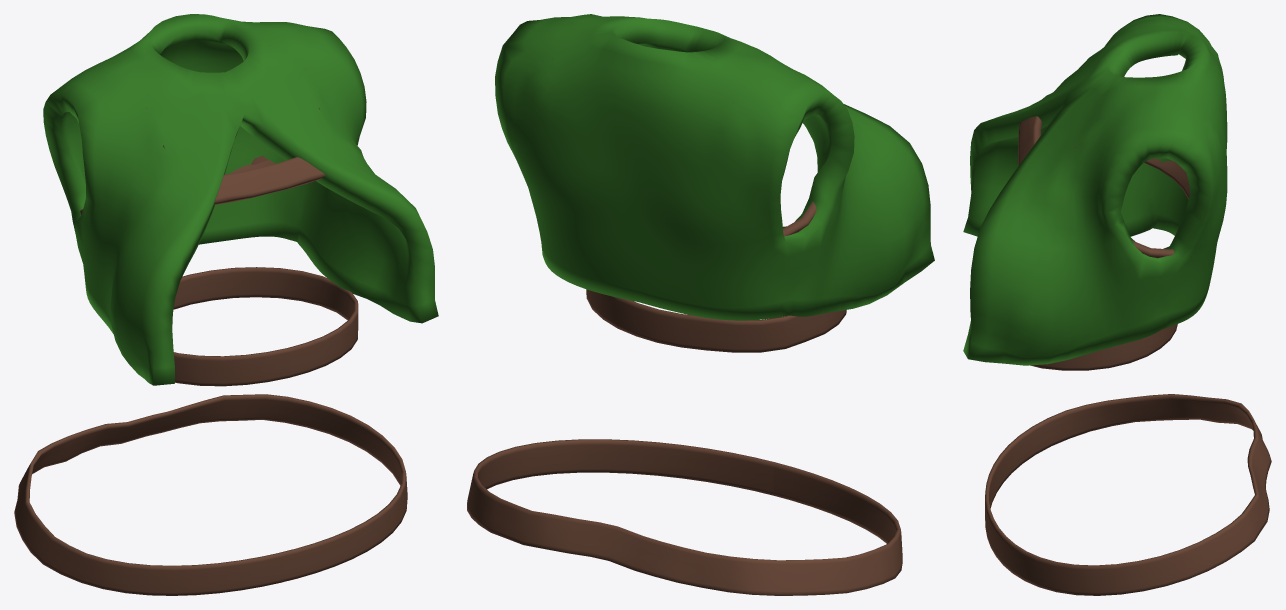
Rendered from Porphi - stuf2f.fbx.
3 renders of one model, left to right at view 1: azimuth 30°, elevation 25°; view 2: azimuth 150°, elevation 25°; view 3: azimuth 270°, elevation 25°, orthographic. The views are drawn at different scales.
Visible parts, largest first — view 1: Cloak.004, 1Belt-ThickE(MidCircle).002, 1Belt-ThickE(MidCircle).003, 1Belt-ThickE(MidCircle).006; view 2: Cloak.004, 1Belt-ThickE(MidCircle).002, 1Belt-ThickE(MidCircle).003; view 3: Cloak.004, 1Belt-ThickE(MidCircle).002, 1Belt-ThickE(MidCircle).003, 1Belt-ThickE(MidCircle).006.
Part boxes in pixels (box(x1,y1,x2,y2)): Cloak.004: box(43, 14, 438, 385); 1Belt-ThickE(MidCircle).002: box(14, 394, 407, 595); 1Belt-ThickE(MidCircle).003: box(173, 267, 358, 386); 1Belt-ThickE(MidCircle).006: box(80, 69, 325, 214); Cloak.004: box(495, 14, 934, 320); 1Belt-ThickE(MidCircle).002: box(467, 439, 902, 595); 1Belt-ThickE(MidCircle).003: box(586, 289, 846, 352); Cloak.004: box(963, 14, 1227, 365); 1Belt-ThickE(MidCircle).002: box(985, 394, 1271, 595); 1Belt-ThickE(MidCircle).003: box(1030, 324, 1177, 370); 1Belt-ThickE(MidCircle).006: box(1018, 116, 1204, 258).
Size of the model in its own units: 37.06 by 47.81 by 28.09.
